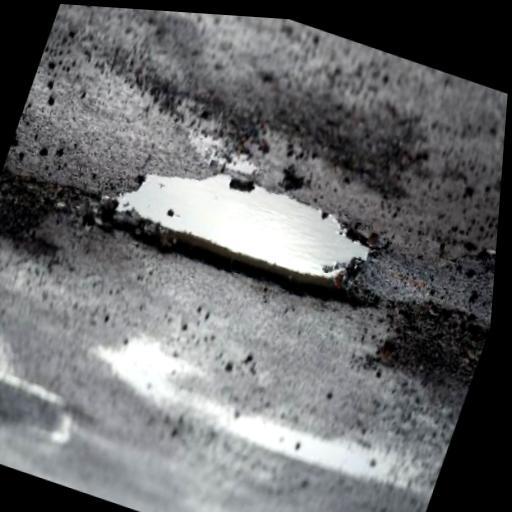pothole: (82, 134, 397, 329)
